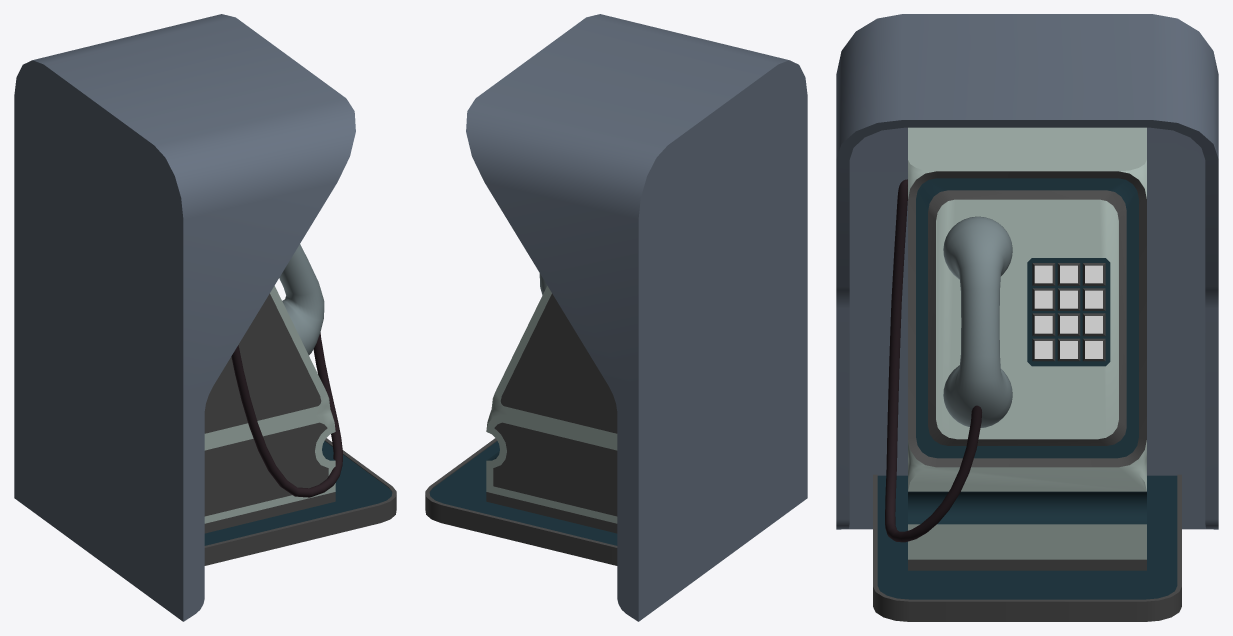
The model's file is airport-emergency-phone.glb.
3 views of the same model, side by side, from view 1: azimuth 30°, elevation 25°; view 2: azimuth 150°, elevation 25°; view 3: azimuth 270°, elevation 25° (orthographic). The views are drawn at different scales.
Parts seen in each view (by area): view 1: 17.5.Model_AIRPORT_0; view 2: 17.5.Model_AIRPORT_0; view 3: 17.5.Model_AIRPORT_0.
Boxes of the visible parts, left/top/right/bottom form: 17.5.Model_AIRPORT_0: left=14, top=14, right=396, bottom=621; 17.5.Model_AIRPORT_0: left=425, top=14, right=807, bottom=621; 17.5.Model_AIRPORT_0: left=836, top=14, right=1218, bottom=621.
Size of the model in its own units: 0.508 by 0.9149 by 0.616.
Materials: 1 (1 with a texture image).
